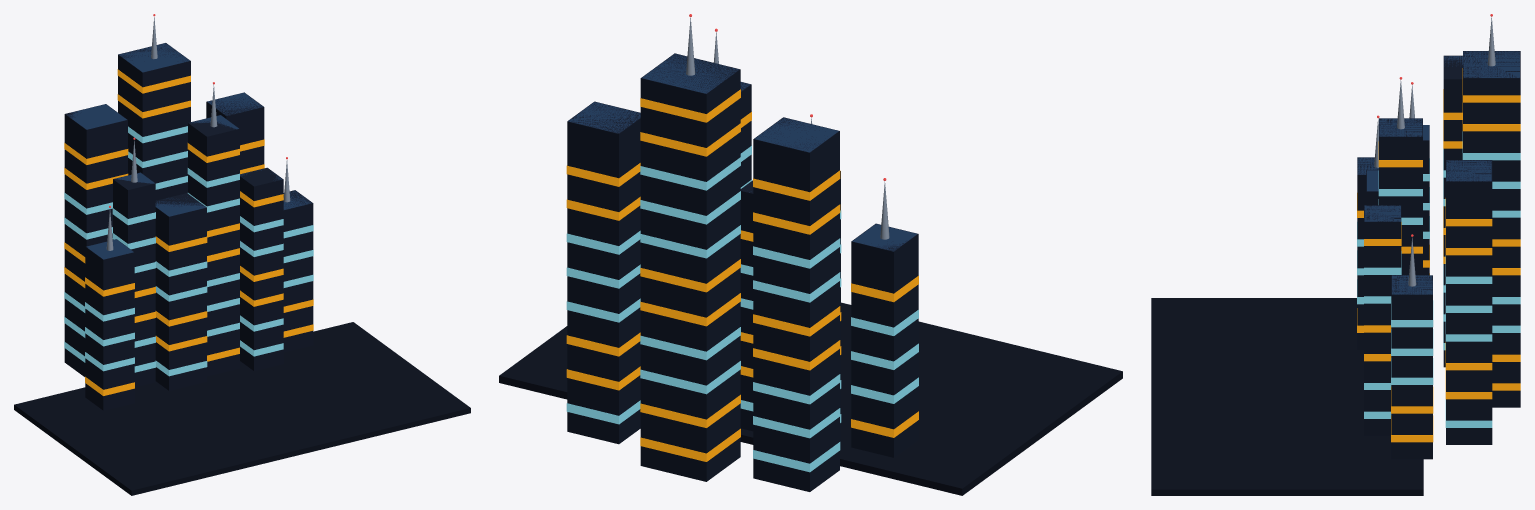
File: future_skyline.glb
3 renders of one model, left to right at view 1: azimuth 30°, elevation 25°; view 2: azimuth 150°, elevation 25°; view 3: azimuth 270°, elevation 25°, orthographic. The views are drawn at different scales.
Bounding box in the file's own units: 20 × 18.76 × 16.28.
